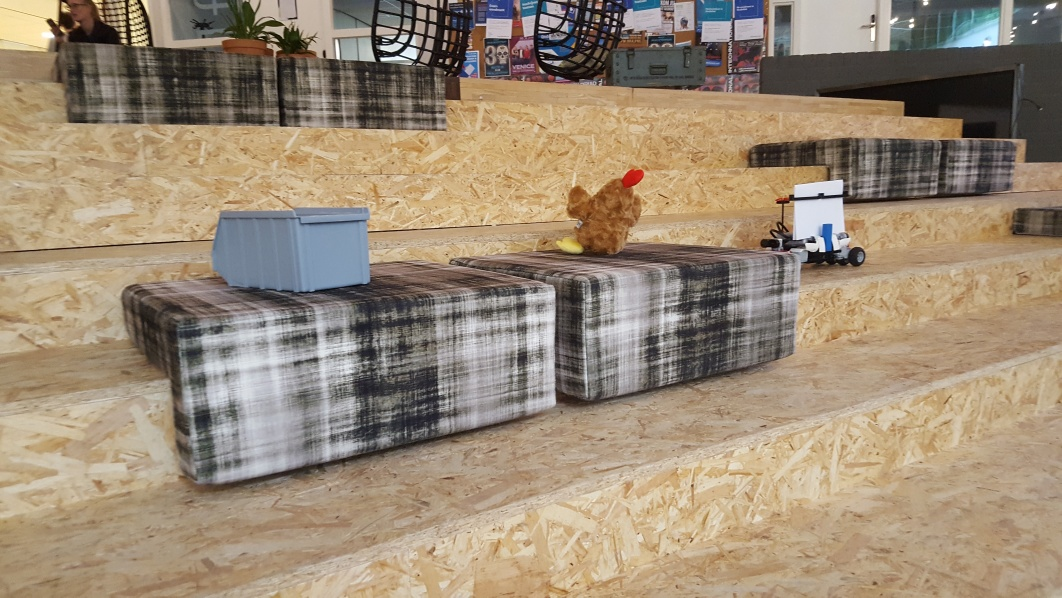car: (762, 178, 867, 269)
chicken: (560, 166, 645, 254)
tray: (210, 201, 375, 294)
